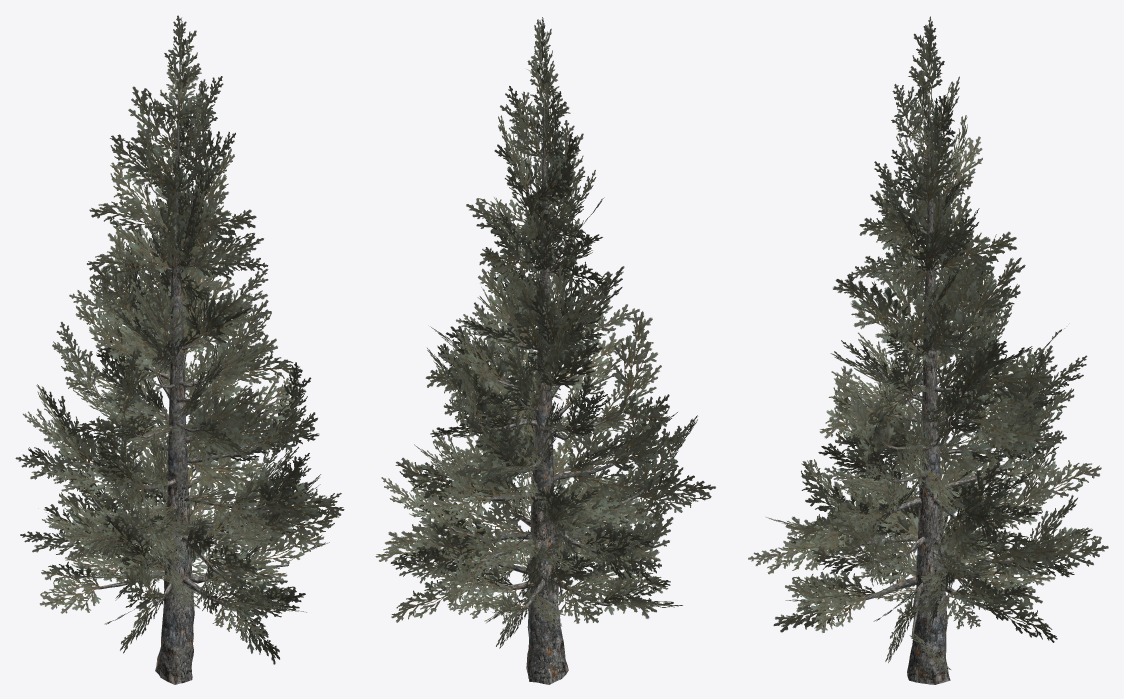
File: Spruce.fbx
3 renders of one model, left to right at view 1: azimuth 30°, elevation 25°; view 2: azimuth 150°, elevation 25°; view 3: azimuth 270°, elevation 25°, orthographic.
Visible parts, largest first — view 1: Spruce_LOD0; view 2: Spruce_LOD0; view 3: Spruce_LOD0.
Part boxes in pixels (x1,y1,x2,y2): Spruce_LOD0: (15,15,344,684); Spruce_LOD0: (375,17,715,684); Spruce_LOD0: (748,16,1108,684).
Size of what is drawn, in the model's own units: 9.76 by 20.42 by 10.15.
2 materials, 2 textured.
